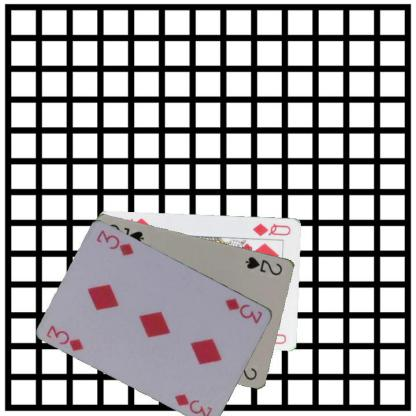2s: (243, 254, 284, 276)
3d: (223, 296, 264, 326), (44, 322, 85, 352)
Qd: (250, 221, 292, 238)
